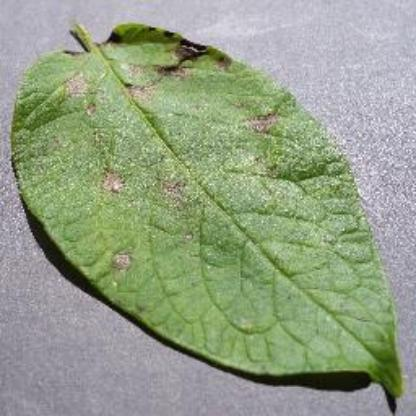Early-Blight: (14, 16, 404, 402)
